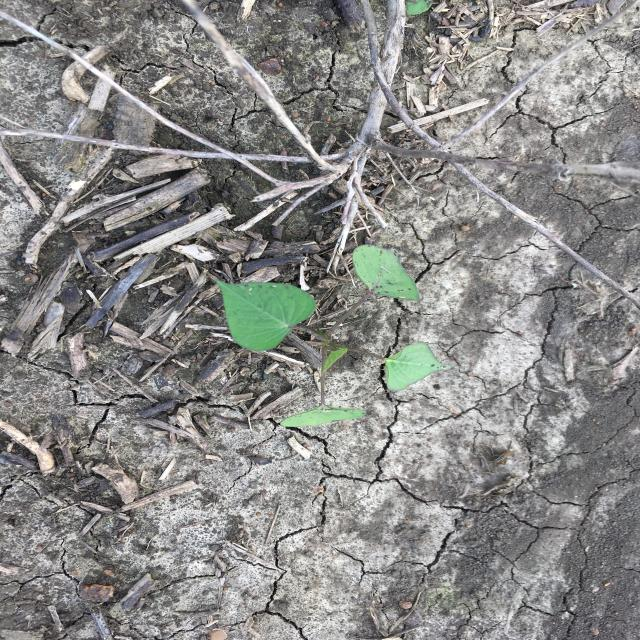MorningGlory: (207, 243, 454, 430)
